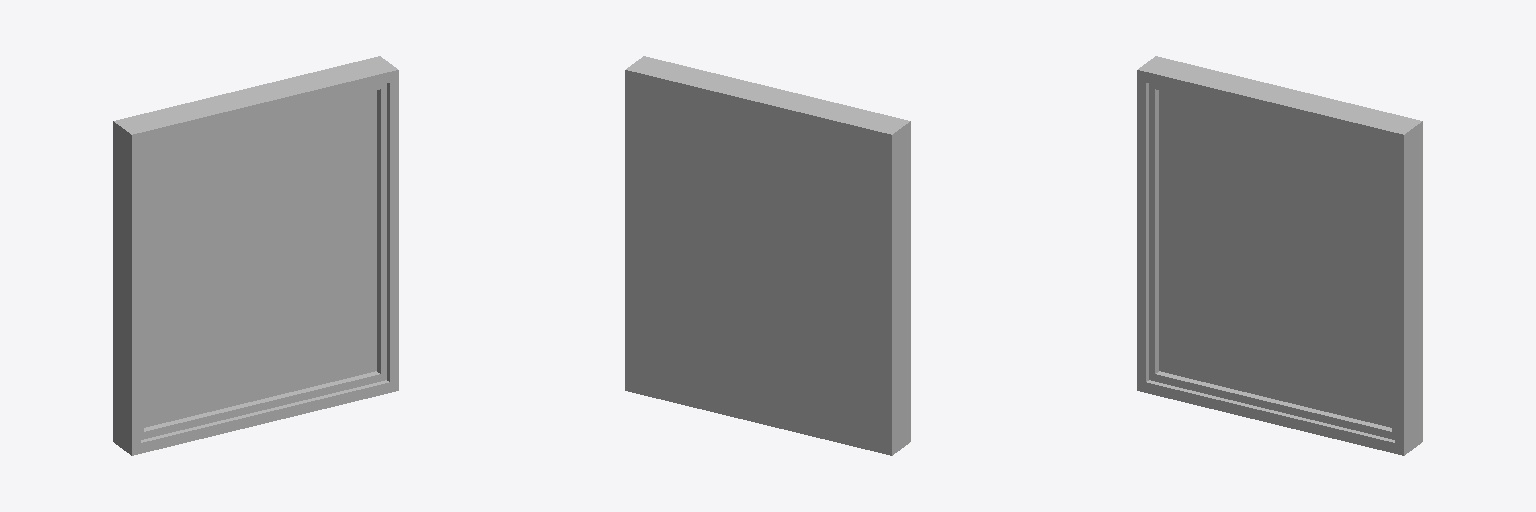
Rendered from Piture_02.obj.
3 views of the same model, side by side, from view 1: azimuth 30°, elevation 25°; view 2: azimuth 150°, elevation 25°; view 3: azimuth 330°, elevation 25° (orthographic).
Parts seen in each view (by area): view 1: pCube1; view 2: pCube1; view 3: pCube1.
Part boxes in pixels (x1,y1,x2,y2): pCube1: (113, 56, 398, 455); pCube1: (625, 56, 910, 455); pCube1: (1137, 56, 1422, 455).
Size of the model in its own units: 1.67 by 1.92 by 0.2026.